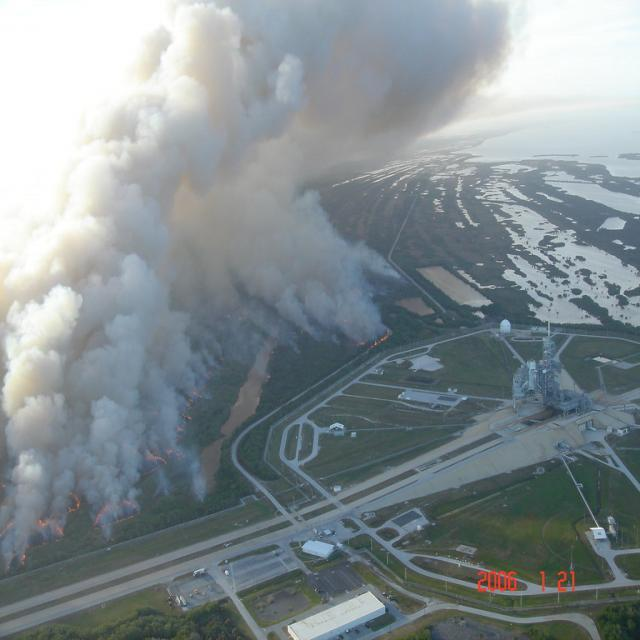Fire: (94, 498, 112, 525), (370, 328, 390, 348), (148, 451, 166, 467), (66, 494, 79, 510), (36, 514, 44, 528), (20, 552, 28, 566), (4, 519, 12, 533), (56, 522, 62, 540), (178, 412, 190, 420), (357, 341, 365, 346)
